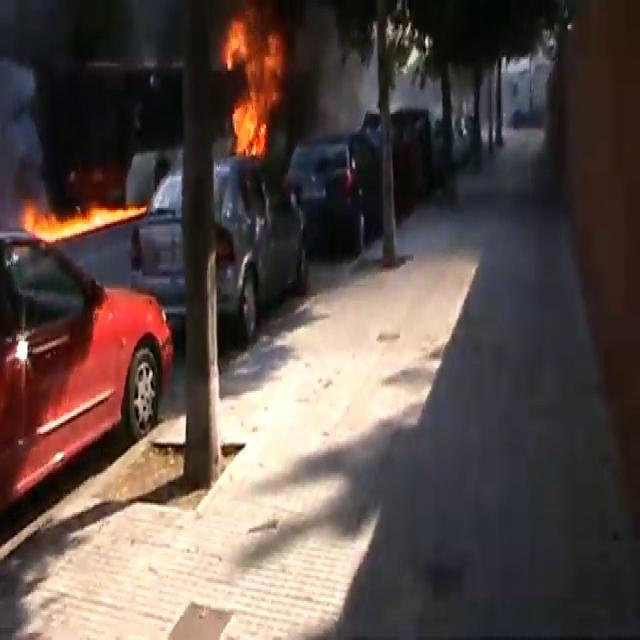Fire: (218, 5, 288, 166), (15, 194, 127, 250)
